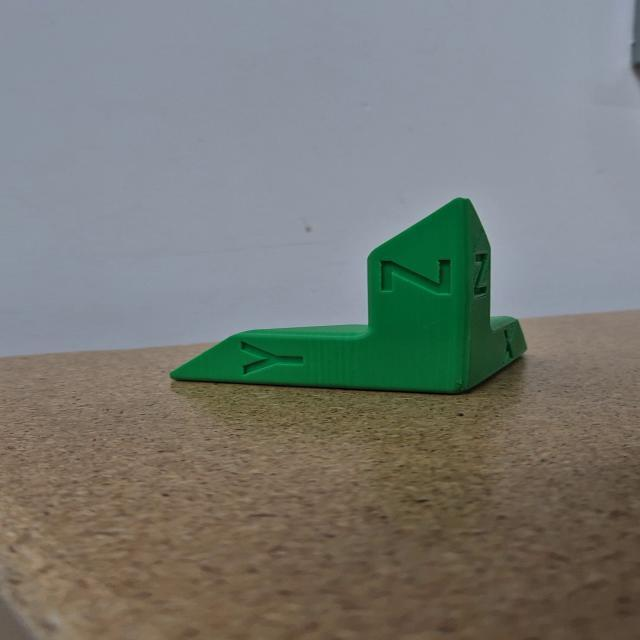eje: (160, 194, 538, 398)
